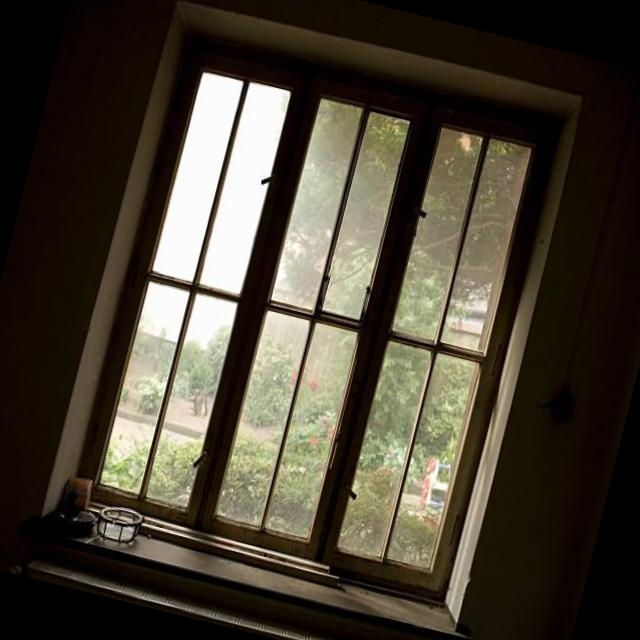Window: (64, 27, 571, 605)
